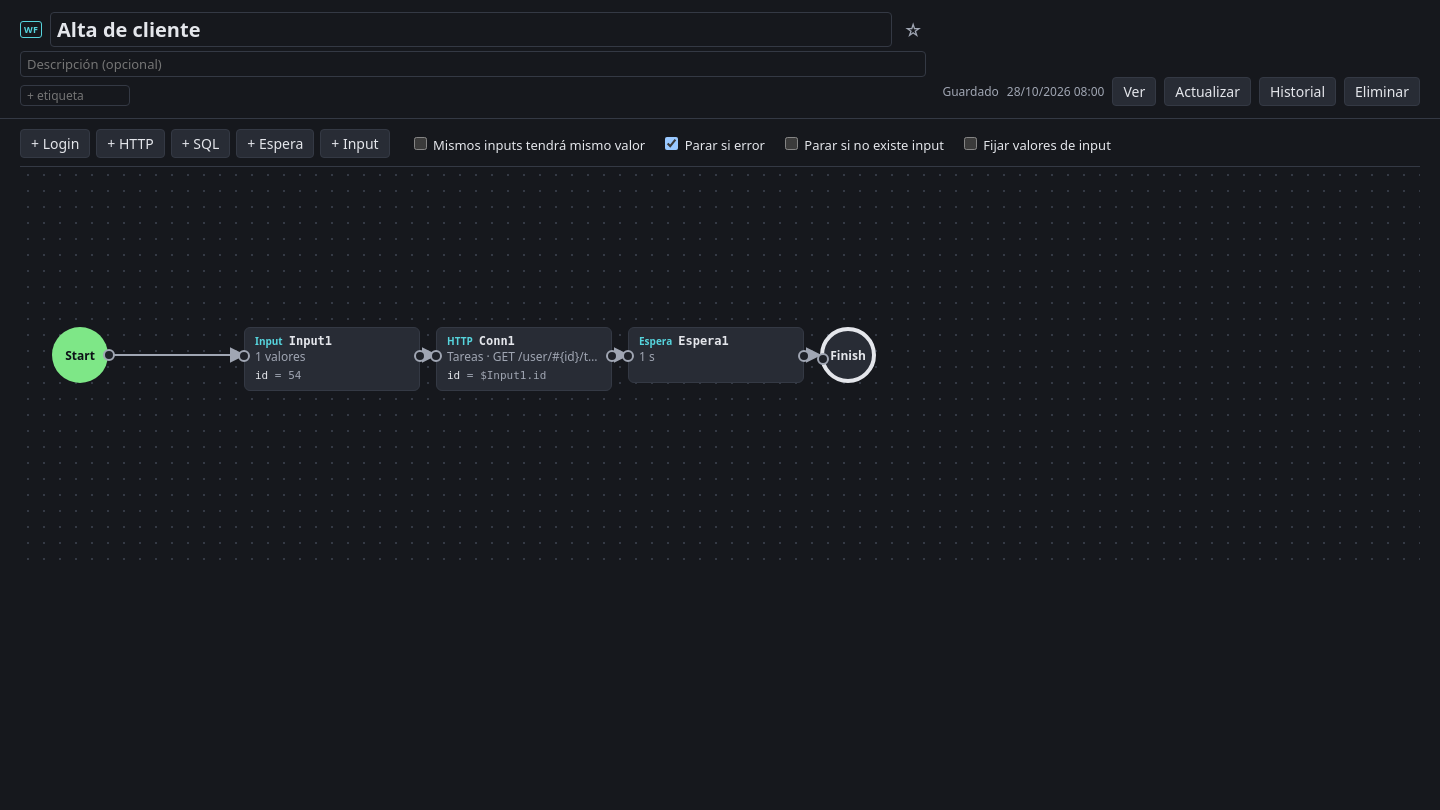
Test case: notas workflow › W-17 W-36 «Sale hacia» une sin ratón y se avisa de referencias que no van antes
Click the button "Input Input1 1 valores id = 54".
click(332, 359)  # box [244,327,420,391]
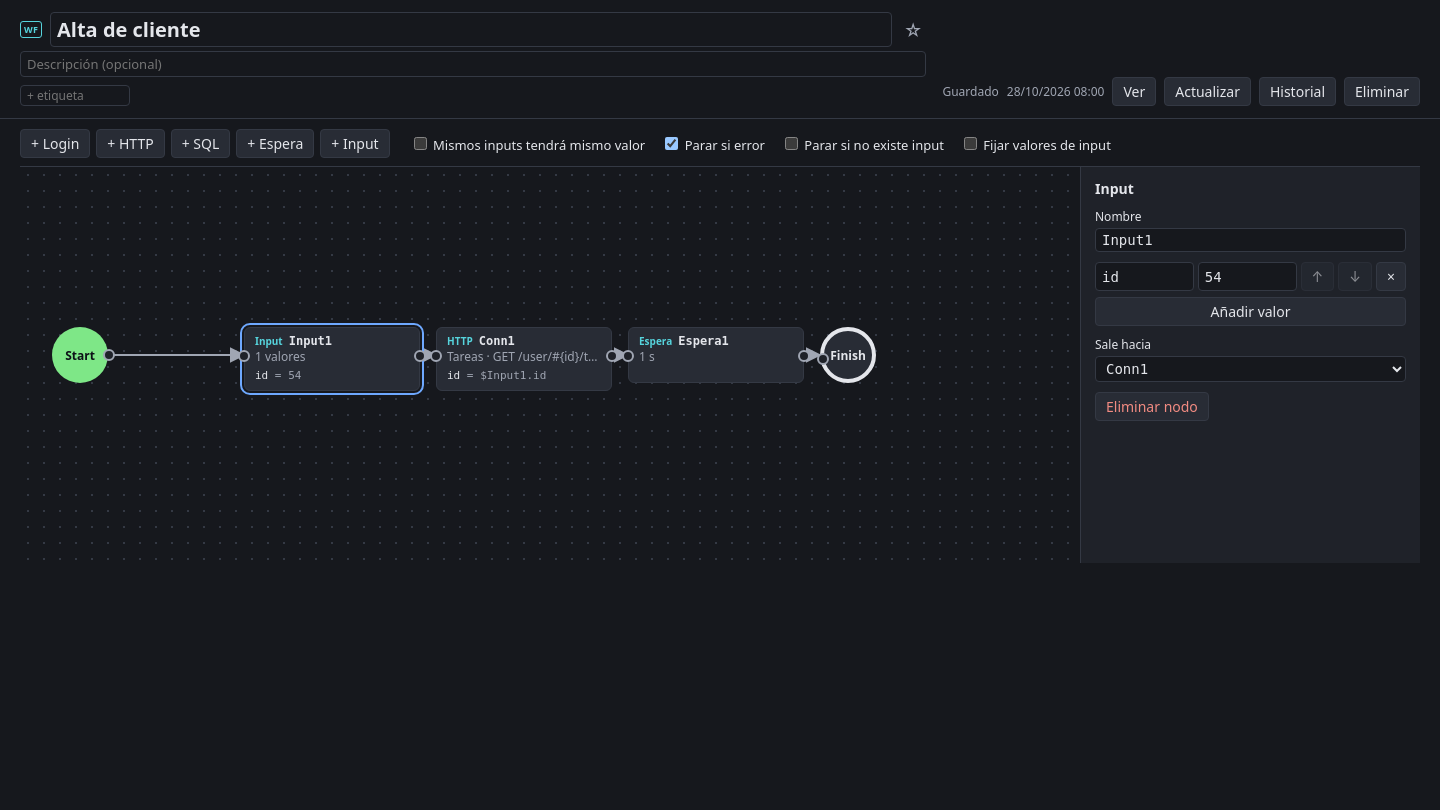
Select "Espera1" in the dropdown labelled "Sale hacia" at (1250,369), box [1095,356,1406,382]
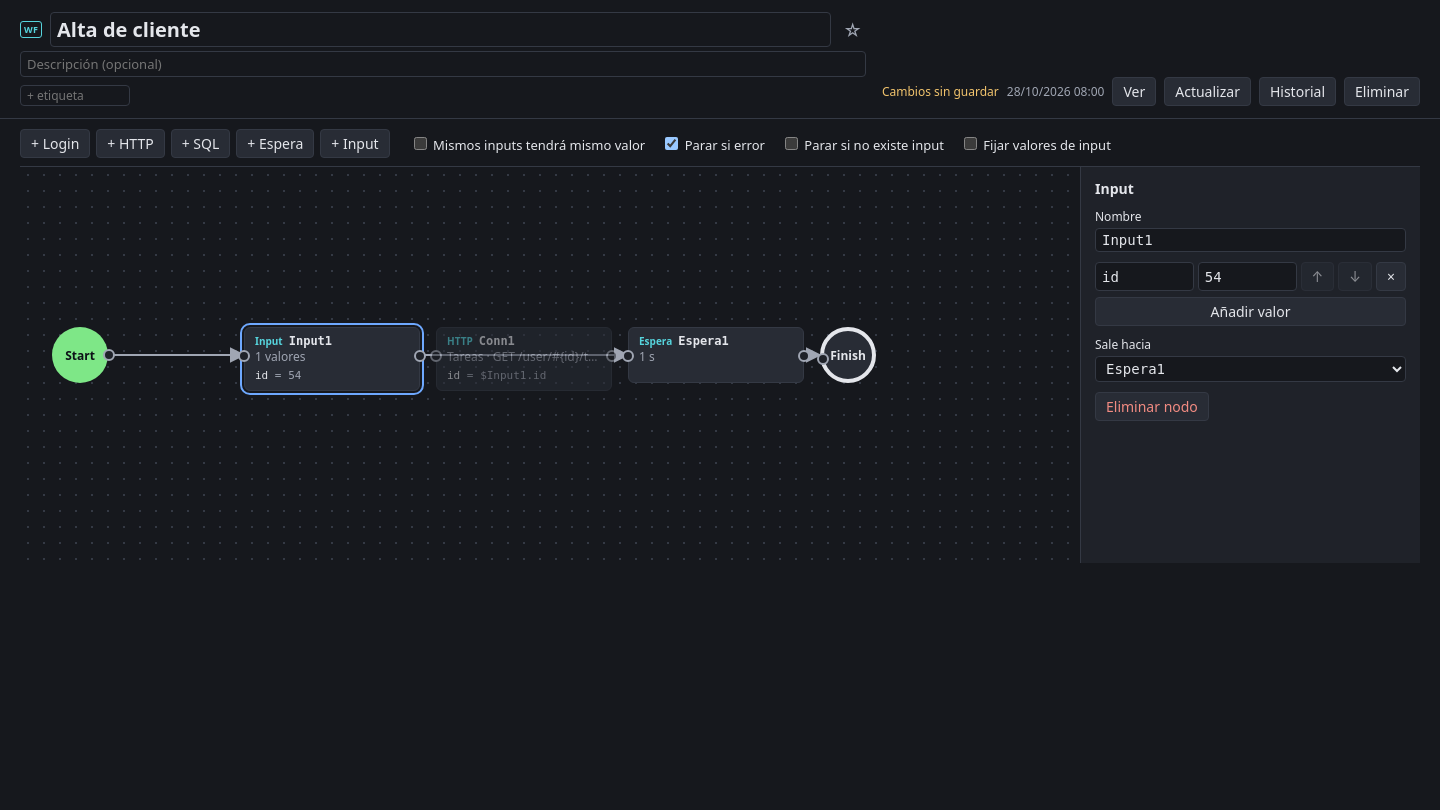
Replace the text in the field named "Valor 1" with "$Espera1" at (1247,276), box [1198,262,1297,291]
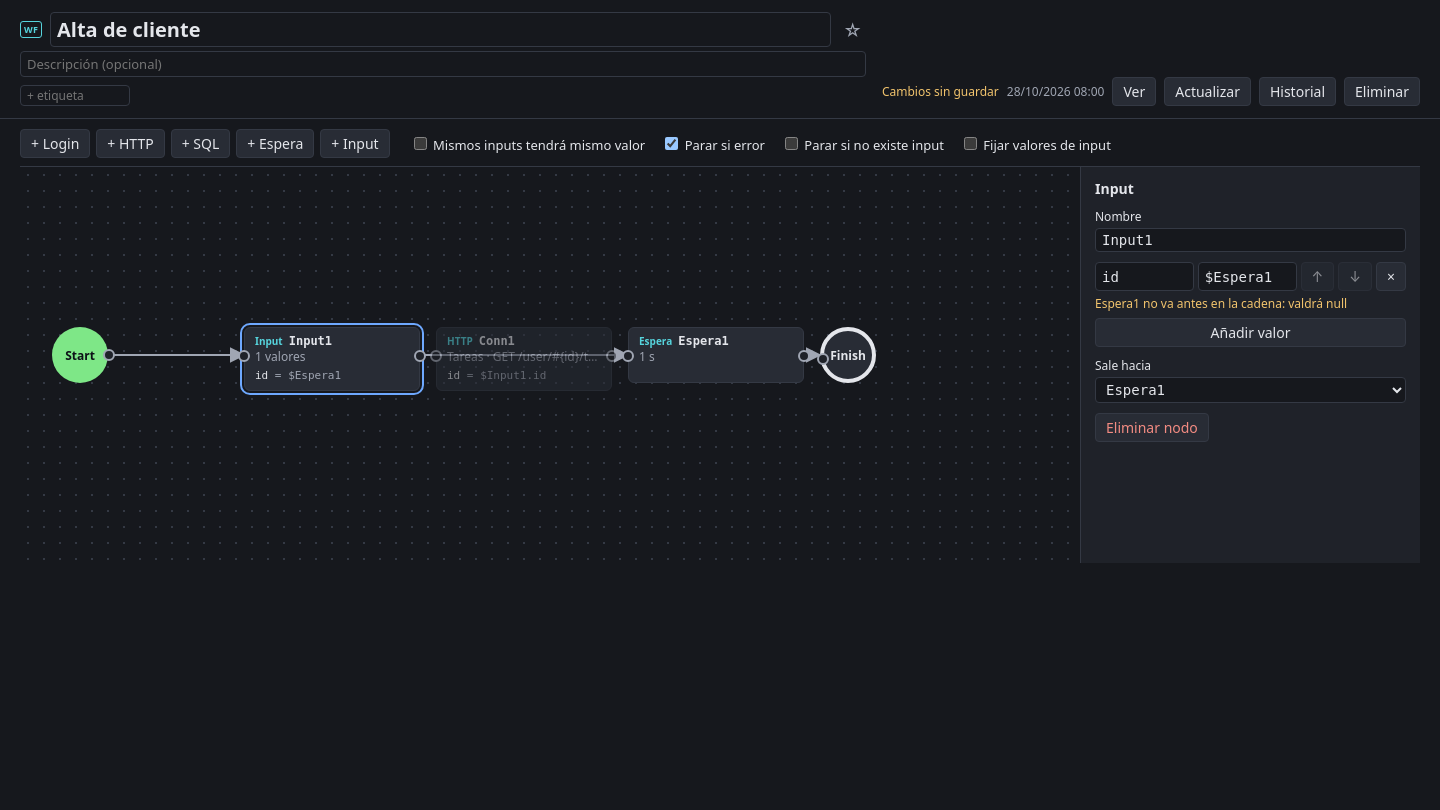
Expected: the text "Espera1 no va antes en la cadena: valdrá null" is shown, [1095,295,1347,312]
